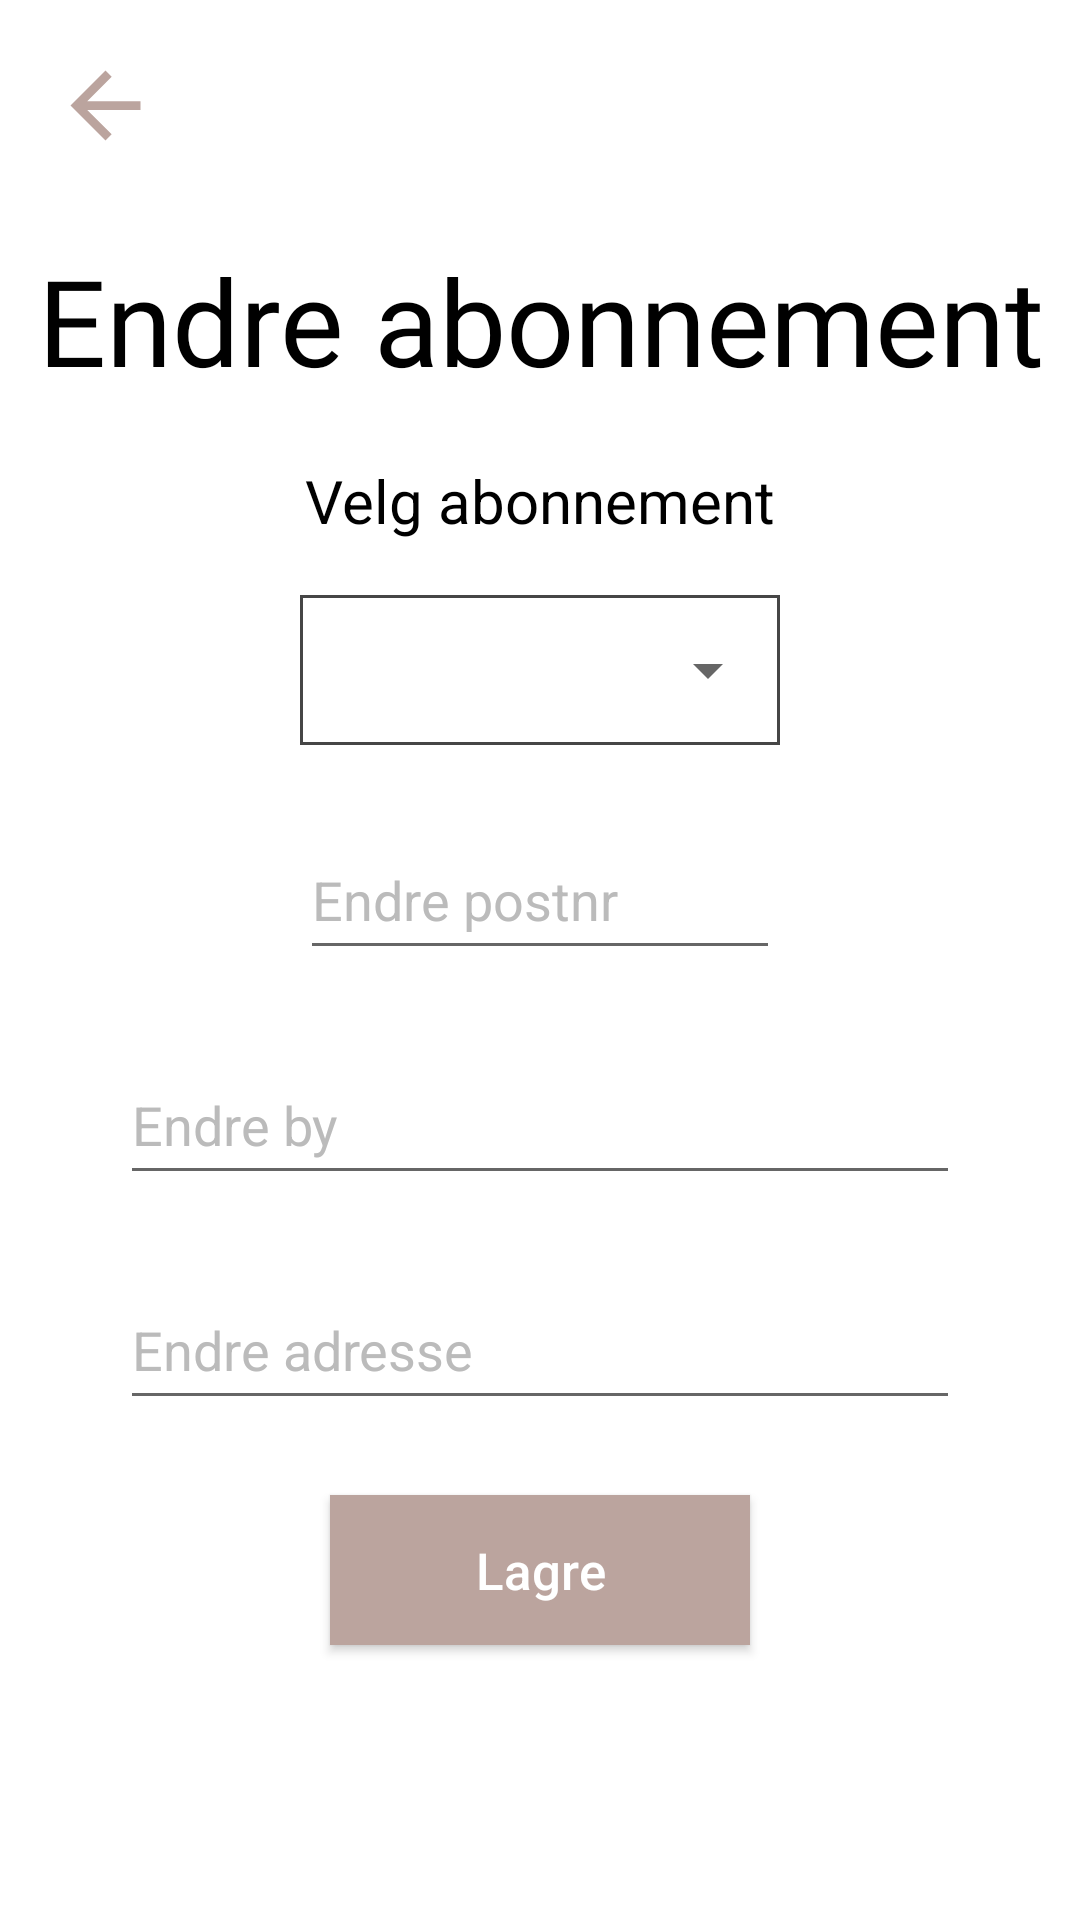

Where icons sit on this 1080w x 1920h app screen, as (x1, y1, x2, y2):
arrow back: (71, 71, 141, 140)
